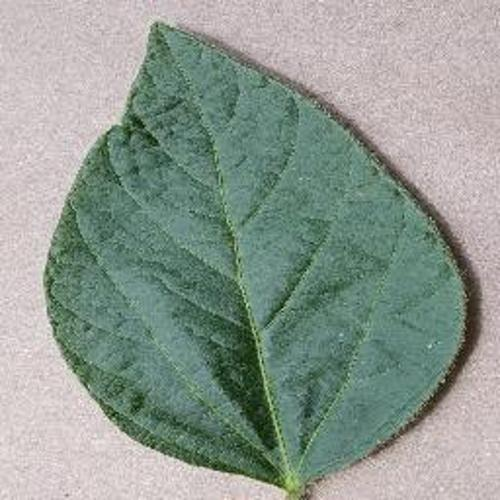Soybean: (48, 22, 467, 500)
